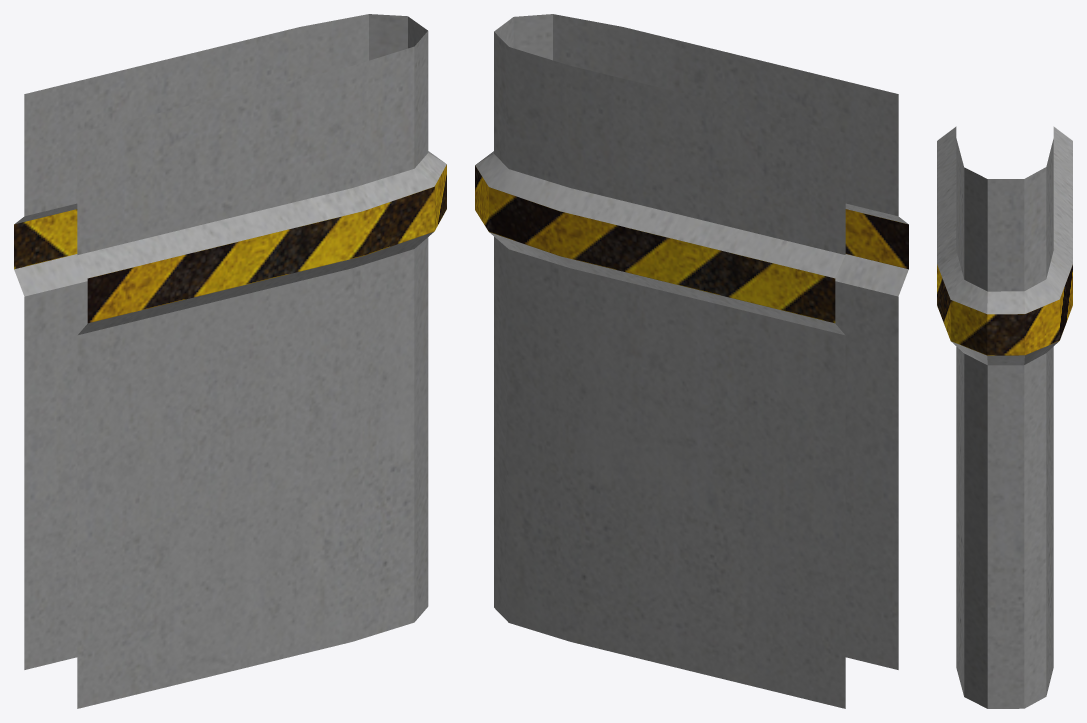
Rendered from Wall_05m_Roll180_01.FBX.
3 views of the same model, side by side, from view 1: azimuth 30°, elevation 25°; view 2: azimuth 150°, elevation 25°; view 3: azimuth 270°, elevation 25° (orthographic). The views are drawn at different scales.
Visible parts, largest first — view 1: Wall_05m_Roll180_01_mesh; view 2: Wall_05m_Roll180_01_mesh; view 3: Wall_05m_Roll180_01_mesh.
Part boxes in pixels (x1,y1,x2,y2): Wall_05m_Roll180_01_mesh: (14, 14, 446, 708); Wall_05m_Roll180_01_mesh: (475, 14, 908, 708); Wall_05m_Roll180_01_mesh: (937, 126, 1072, 708).
Bounding box in the file's own units: 211 × 300 × 69.63.
2 materials, 2 textured.
